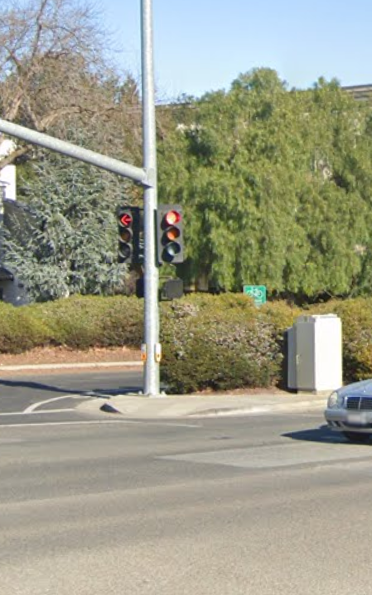red_light: (159, 209, 185, 261)
